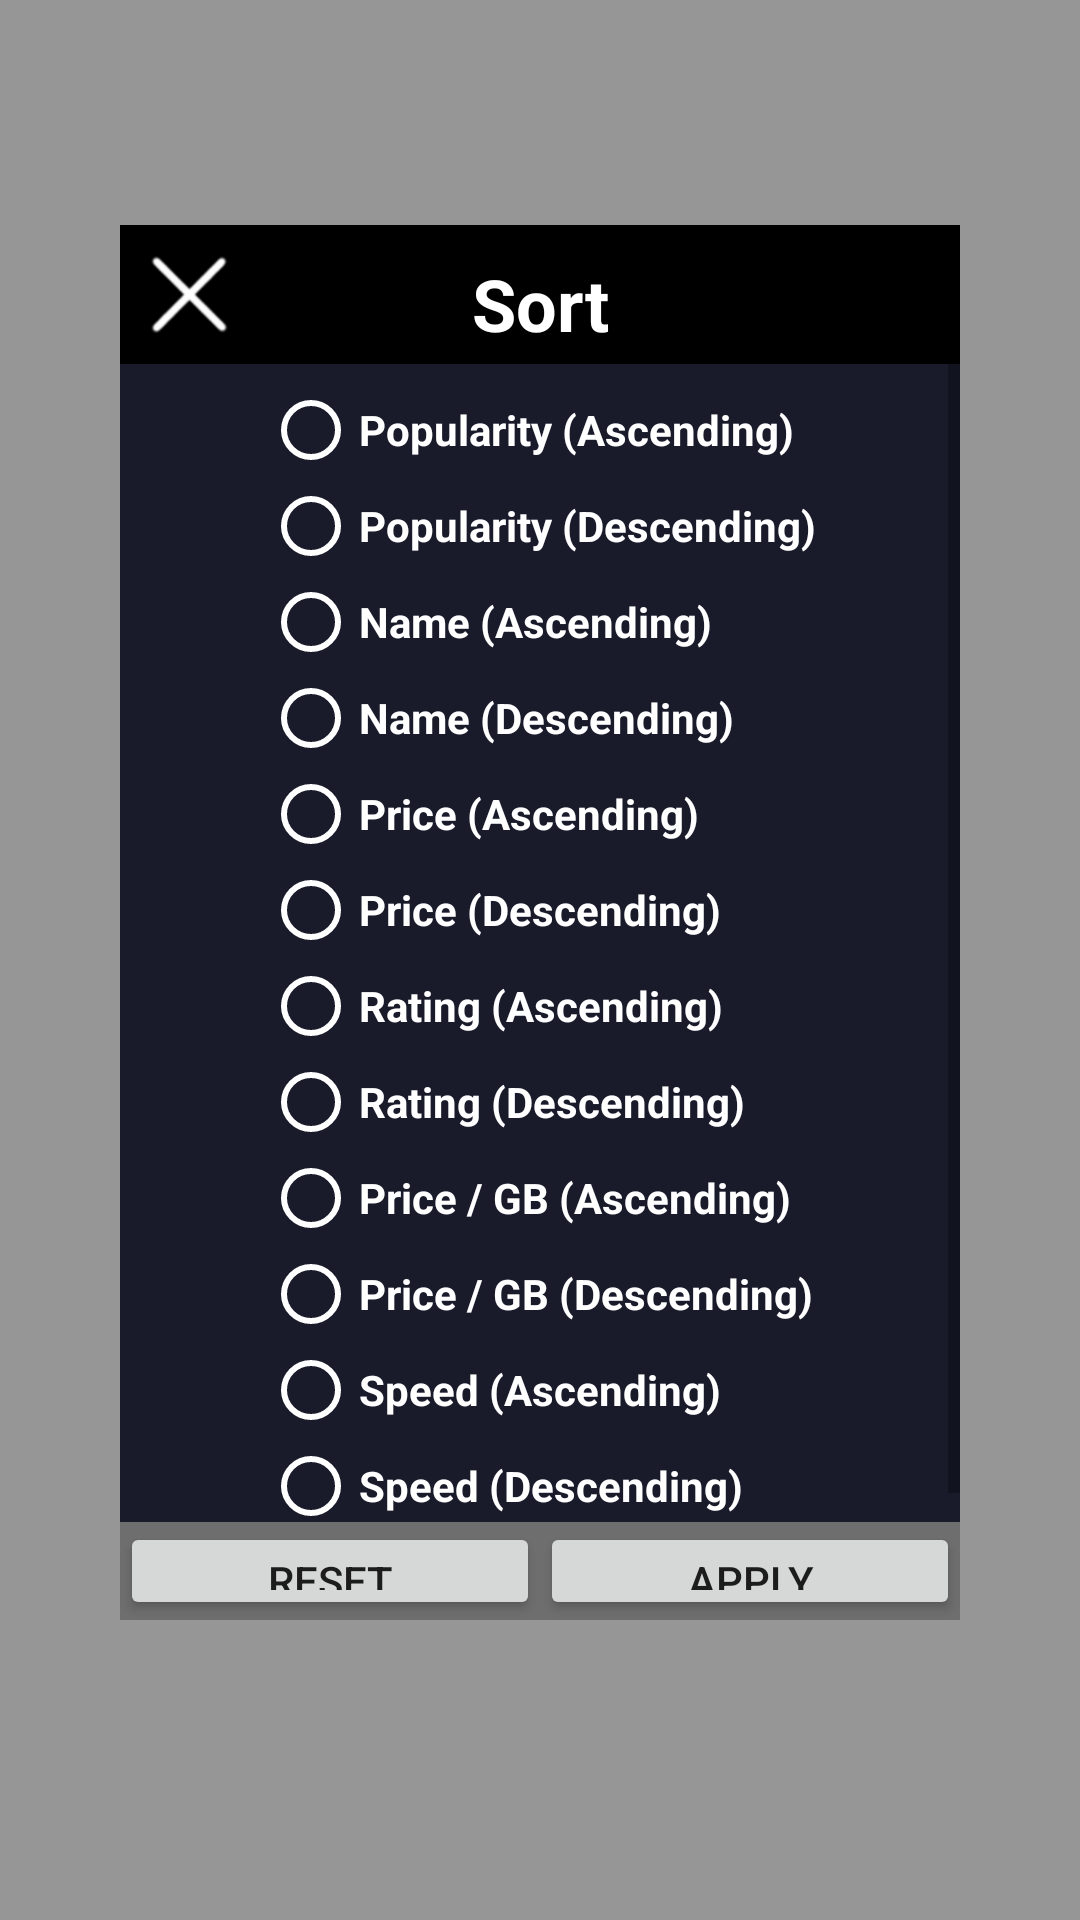

Named icons in this screenshot (1080x1920) and their centers, (x,y):
close mark: (189,295)
